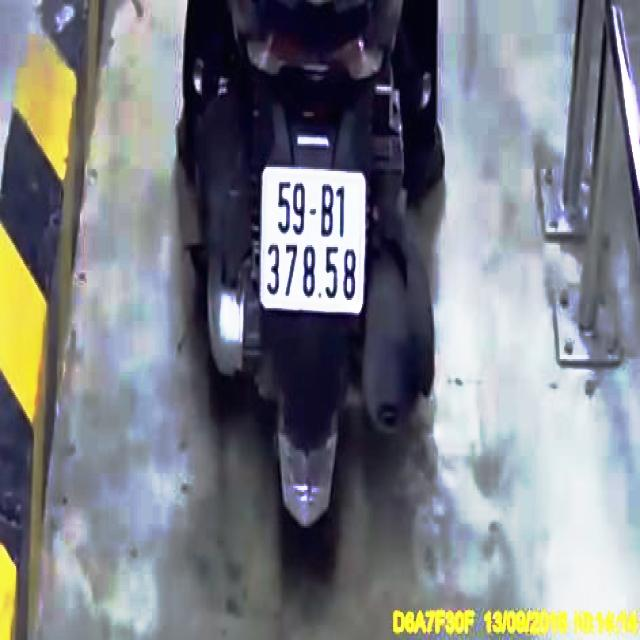license_plate: (263, 169, 364, 312)
